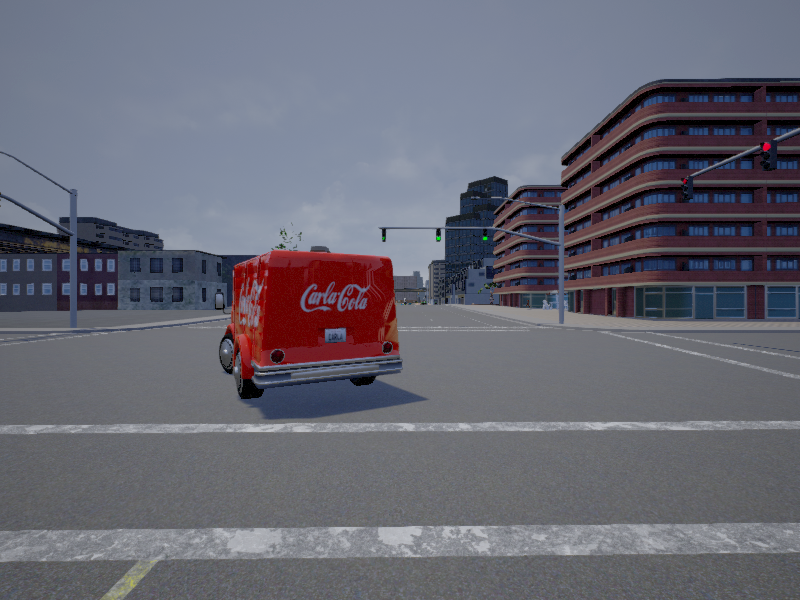Benign: (218, 251, 401, 399)
